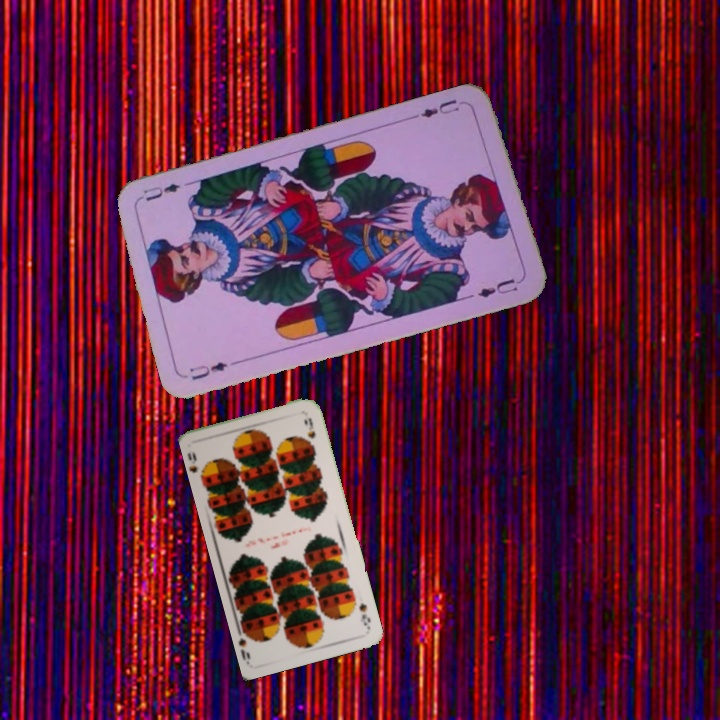EU: (413, 95, 471, 121), (185, 357, 230, 383)
S9: (185, 448, 211, 481), (355, 599, 373, 631)
